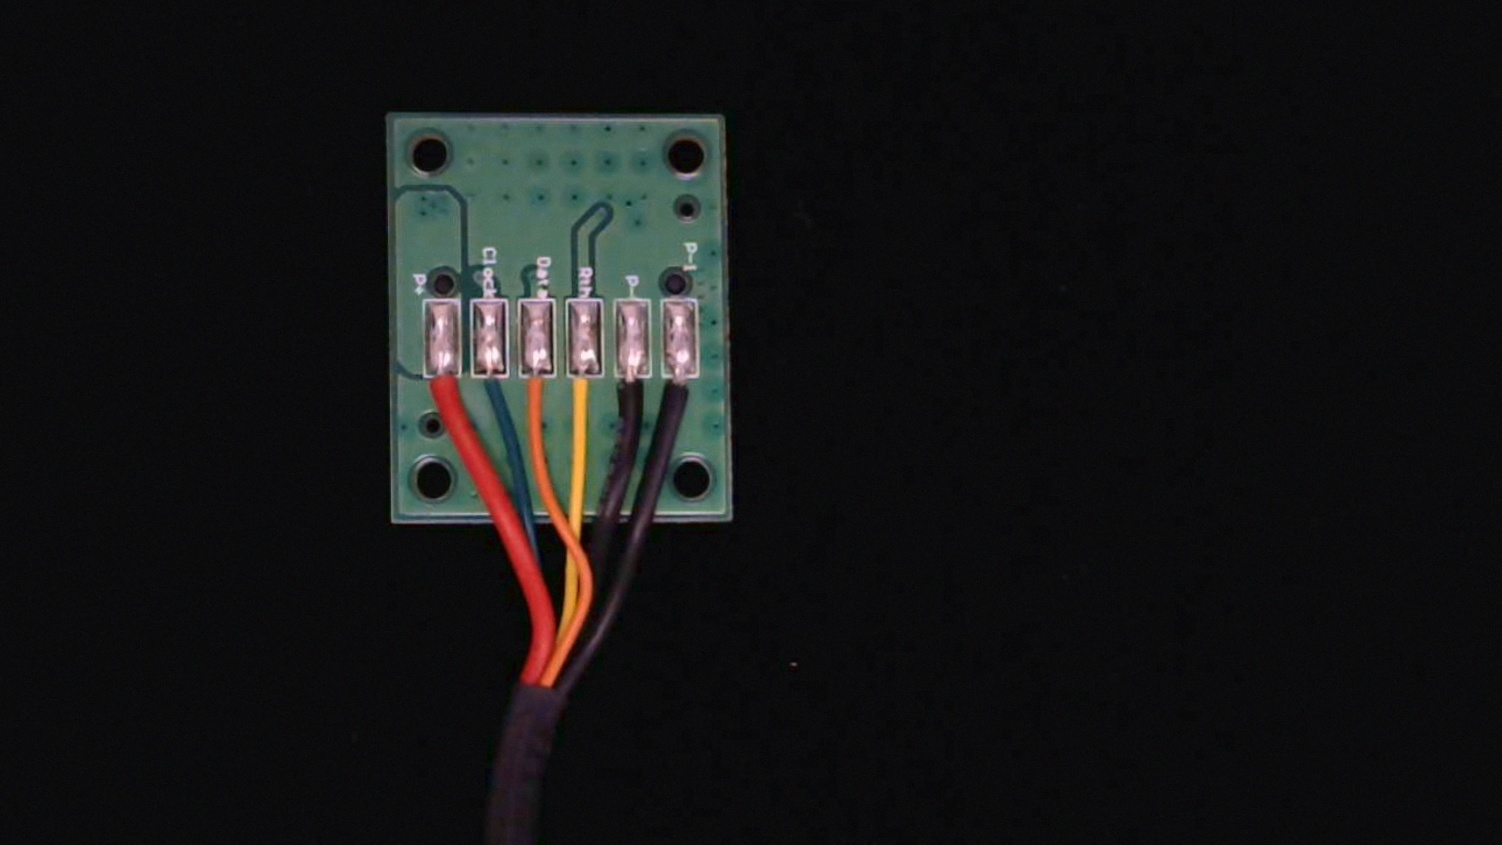Black: (614, 355, 652, 437)
Black1: (663, 355, 699, 429)
Green: (469, 355, 507, 430)
Orange: (519, 355, 554, 432)
Red: (424, 360, 463, 445)
Yellow: (567, 353, 602, 440)
